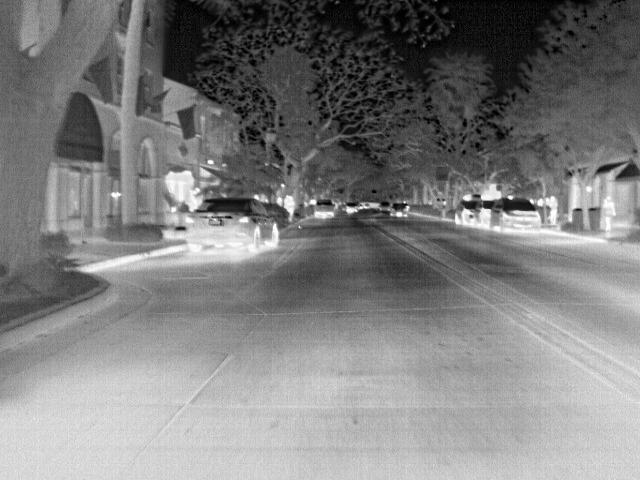car: (187, 196, 282, 250), (491, 197, 545, 232), (311, 197, 339, 219), (456, 200, 479, 226), (477, 199, 498, 226), (389, 202, 411, 220), (342, 202, 358, 216), (376, 198, 390, 214)
person: (601, 194, 618, 234), (545, 194, 561, 224), (283, 194, 296, 223)
